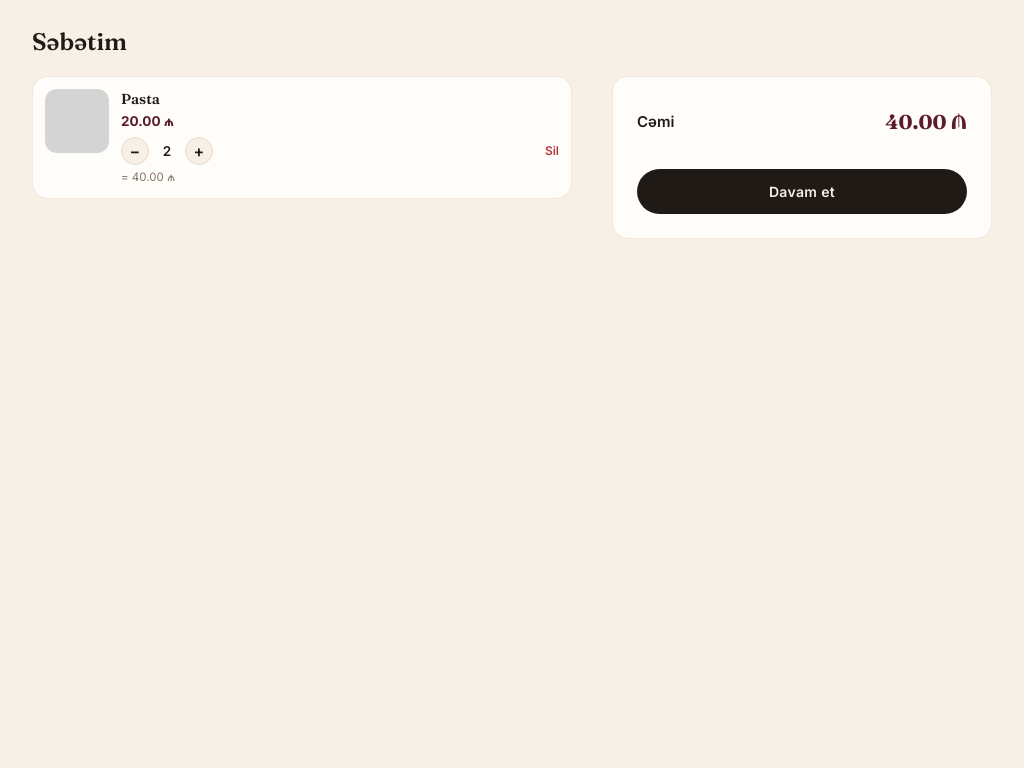
Test: Cart: ödəniş üsulu › üç üsul göstərilir, defolt NAĞD; onlayn seçiləndə düymə "Ödənişə keç" olur
The image size is (1024, 768).
Step 1. Click the button "Davam et" → (802, 192), box [637,169,967,214]
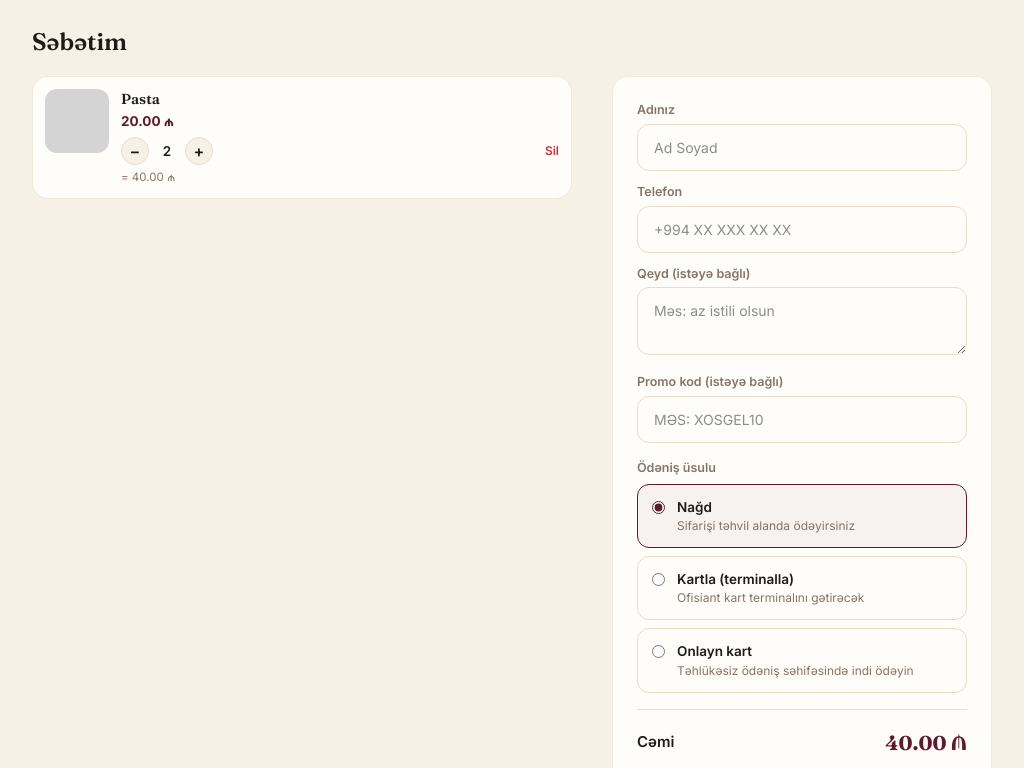
Step 2. Type "Ali" into the field with placeholder "Ad Soyad" → (802, 147), box [637,124,967,171]
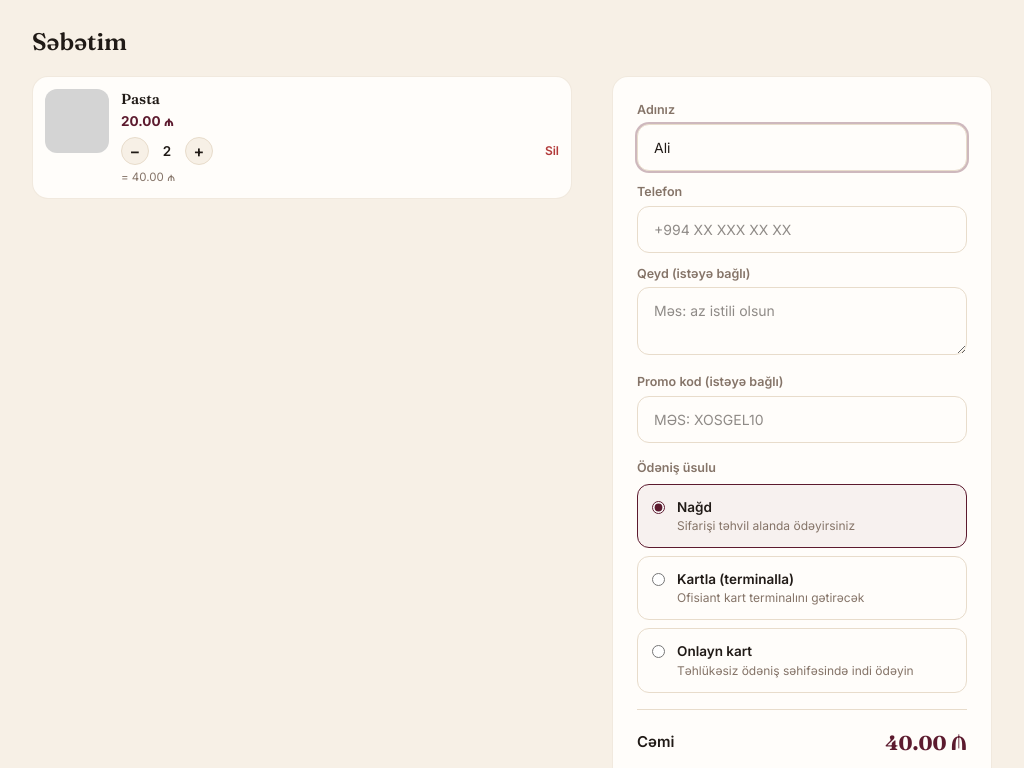
Step 3. Type "+994501112233" into the field with placeholder "+994 XX XXX XX XX" → (802, 229), box [637,206,967,252]
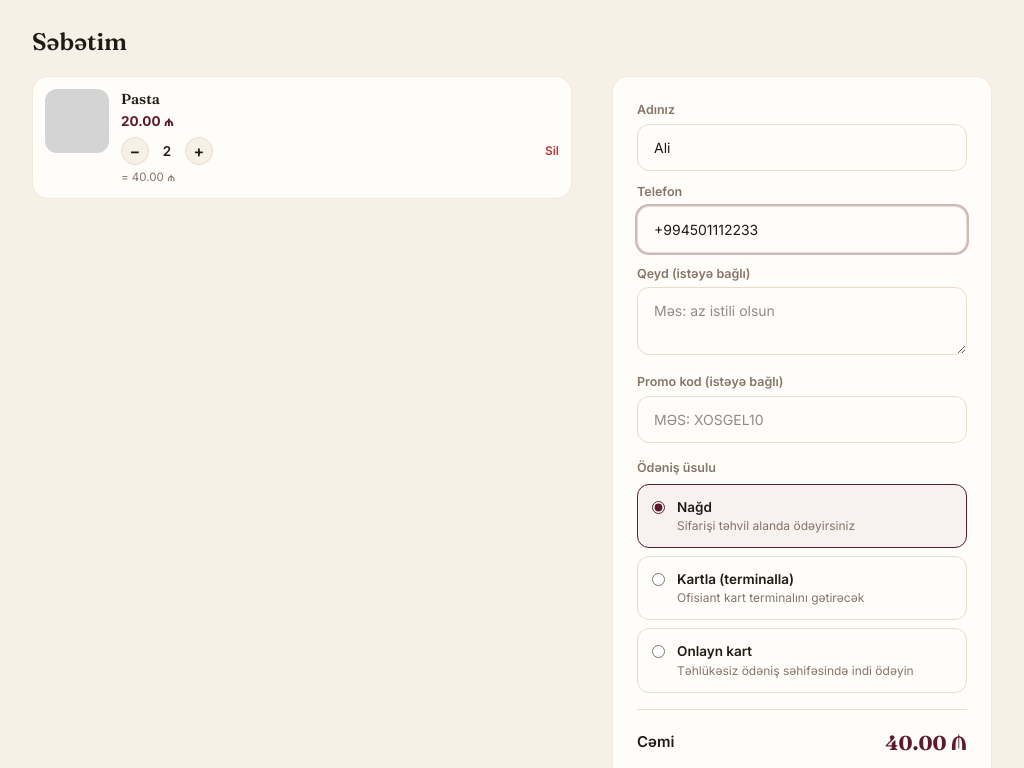
Expected: the number of radio buttons is 3
Expected: the radio button labelled "Nağd Sifarişi təhvil alanda ödəyirsiniz" is checked, [652,501,665,514]
Step 4. Click the radio button labelled "Onlayn kart Təhlükəsiz ödəniş səhifəsində indi ödəyin" → (658, 652), box [652,645,665,658]
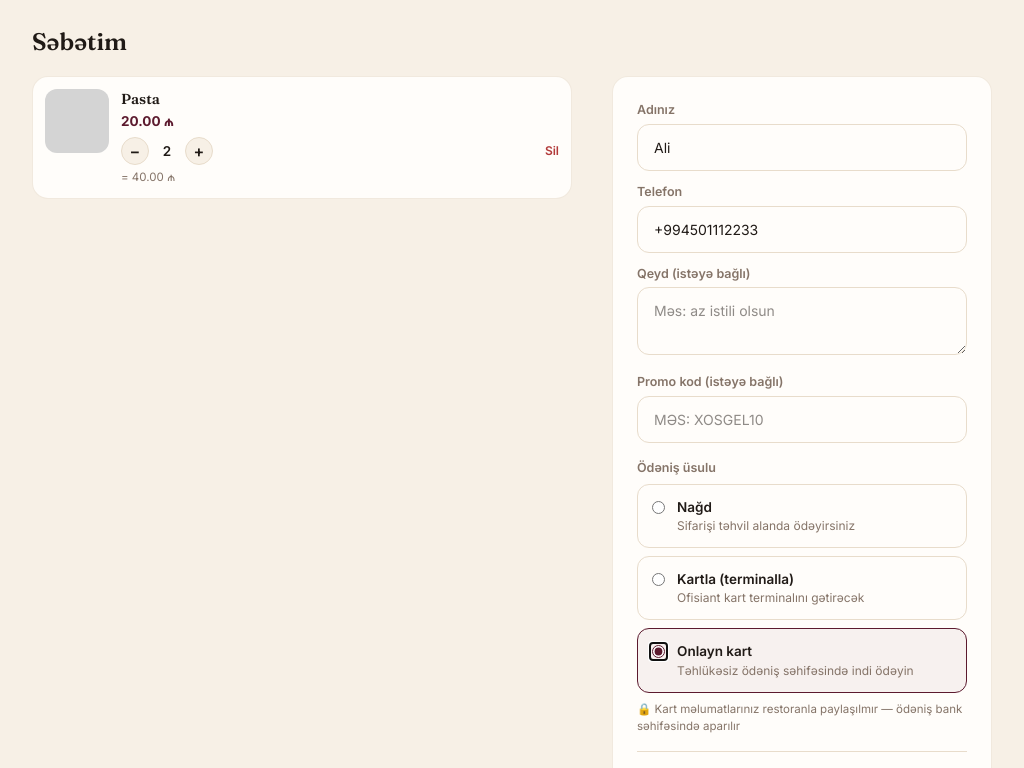
Expected: the text "Kart məlumatlarınız restoranla paylaşılmır" is shown, [637,702,962,733]
